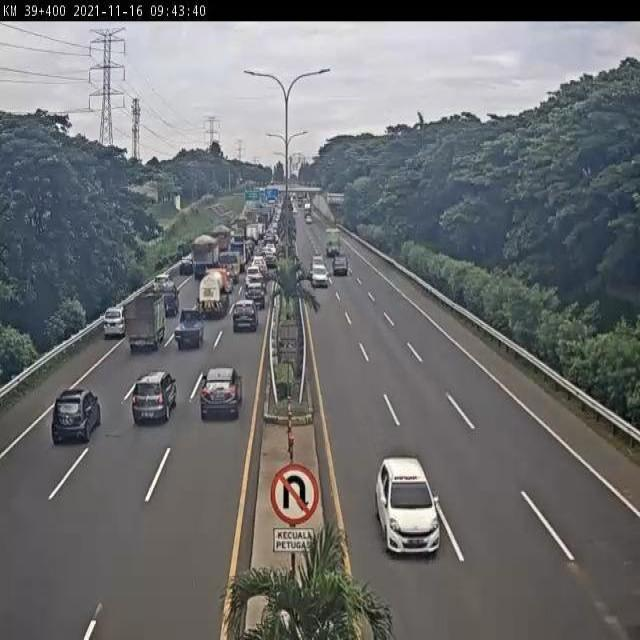Car: (375, 457, 441, 556), (52, 388, 102, 443), (131, 370, 177, 426), (198, 368, 242, 422), (231, 299, 259, 331), (310, 264, 328, 288)
Truck: (125, 289, 167, 353), (198, 272, 228, 321), (192, 234, 220, 280), (173, 308, 204, 348), (325, 228, 341, 256)
